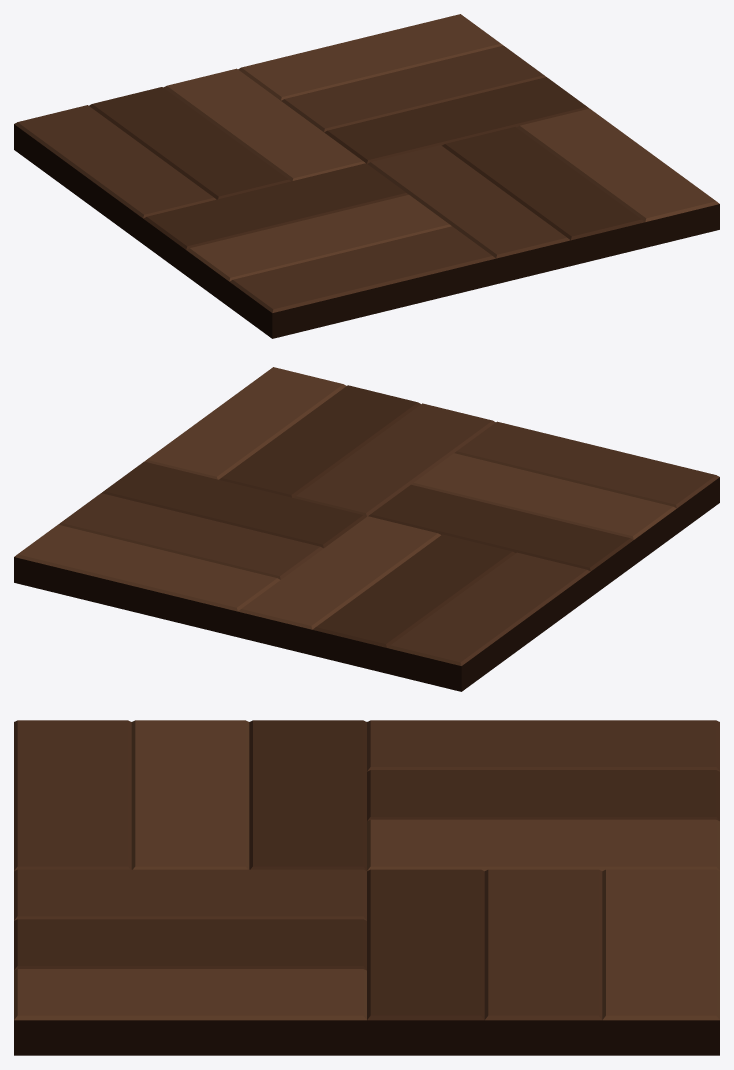
File: boden_parkett_b.glb
3 renders of one model, top to bottom at view 1: azimuth 30°, elevation 25°; view 2: azimuth 150°, elevation 25°; view 3: azimuth 270°, elevation 25°, orthographic. The views are drawn at different scales.
Parts seen in each view (by area): view 1: boden_parkett_b; view 2: boden_parkett_b; view 3: boden_parkett_b.
Part boxes in pixels (x1=…): boden_parkett_b: x1=14, y1=14, x2=719, y2=338; boden_parkett_b: x1=14, y1=367, x2=719, y2=691; boden_parkett_b: x1=14, y1=720, x2=719, y2=1055.
Size of the model in its own units: 1 by 0.06 by 1.
